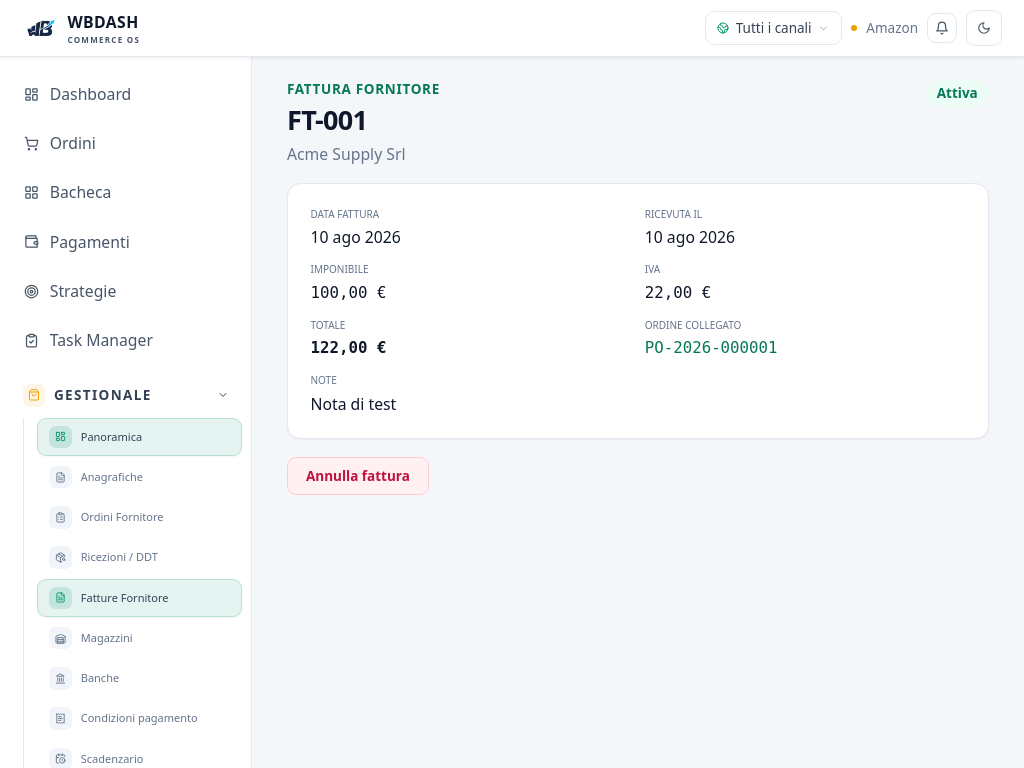
FatturaDetailPage › shows an 'Annulla fattura' action for an active invoice, hides it once voided
The width and height of the screenshot is (1024, 768).
Expected: the heading "FT-001" is shown, [287,101,367,138]
Click the button "Annulla fattura" at (358, 476), box [287,456,429,494]
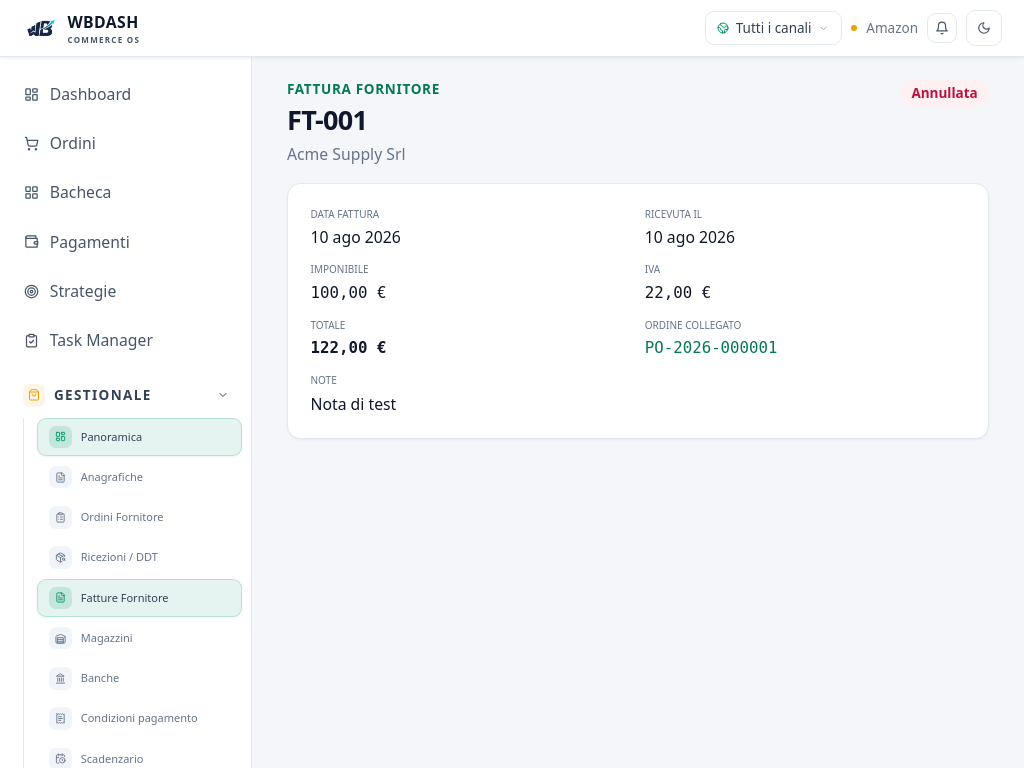
Now the text "Annullata" is shown, box [900,80,989,106]
Now the button "Annulla fattura" is gone
